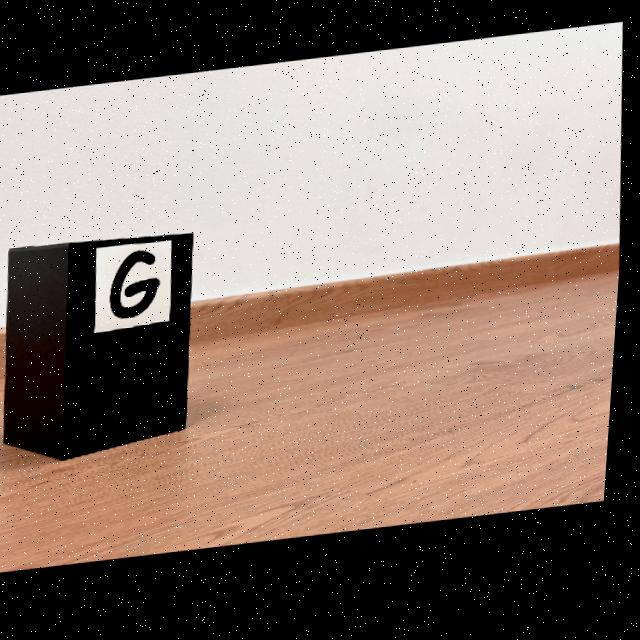G: (114, 253, 164, 321)
